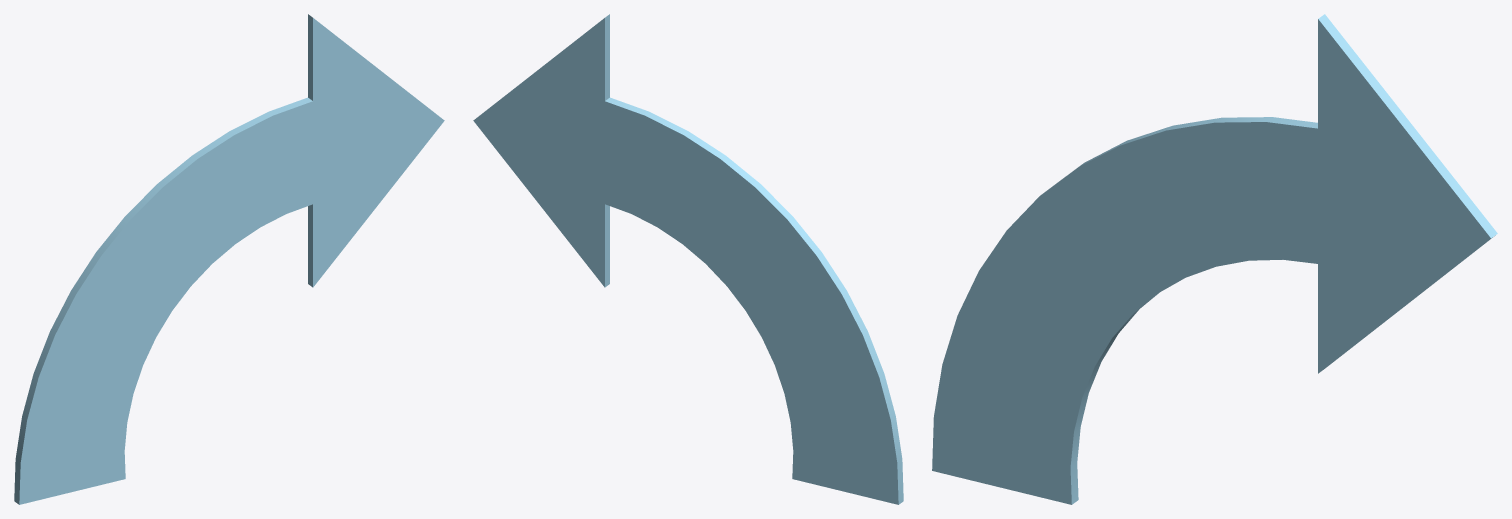
File: BlueCArrow.obj
The picture shows the model from 3 angles, left to right: view 1: azimuth 30°, elevation 25°; view 2: azimuth 150°, elevation 25°; view 3: azimuth 330°, elevation 25°; orthographic projection. The views are drawn at different scales.
Visible parts, largest first — view 1: Mesh1 Model; view 2: Mesh1 Model; view 3: Mesh1 Model.
Part boxes in pixels (x1,y1,x2,y2): Mesh1 Model: [14, 14, 444, 504]; Mesh1 Model: [473, 14, 903, 504]; Mesh1 Model: [932, 14, 1497, 504].
Size of the model in its own units: 0.1667 by 0.1556 by 0.00347.
